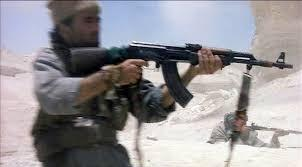rifle: (67, 39, 293, 110)
